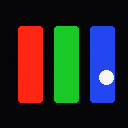2 circle: (99, 70, 113, 84)
